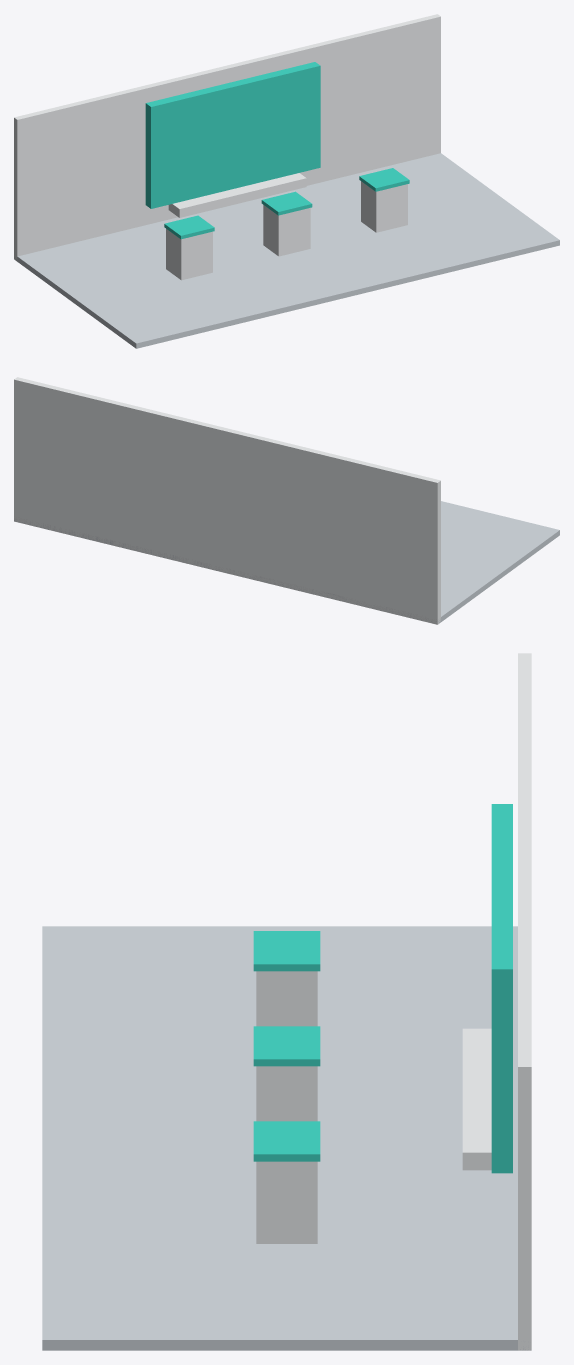
The picture shows the model from 3 angles, top to bottom: view 1: azimuth 30°, elevation 25°; view 2: azimuth 150°, elevation 25°; view 3: azimuth 270°, elevation 25°; orthographic projection. The views are drawn at different scales.
Parts seen in each view (by area): view 1: Exhibition Booth Concept; view 2: Exhibition Booth Concept; view 3: Exhibition Booth Concept.
Part boxes in pixels (x1,y1,x2,y2): Exhibition Booth Concept: (14,14,559,348); Exhibition Booth Concept: (14,377,559,624); Exhibition Booth Concept: (42,653,531,1350).
Size of the model in its own units: 10 by 3.2 by 5.
